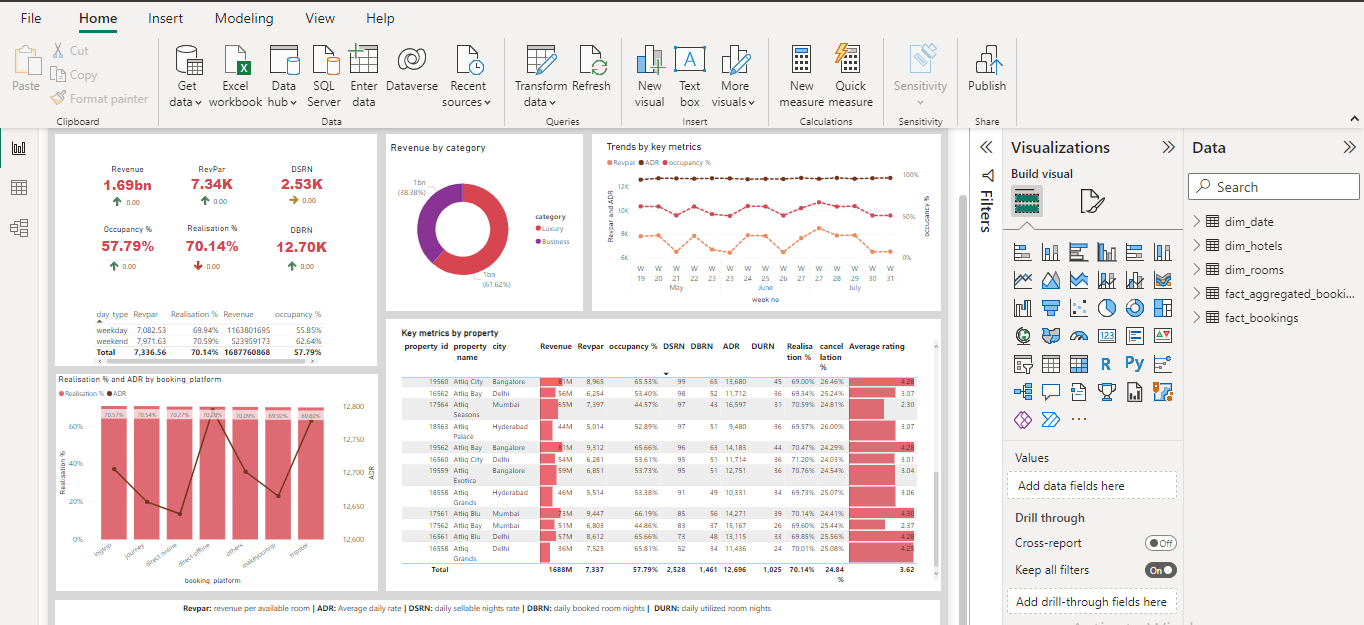

The dashboard page shown, as its layout file describes it:
{"tool":"powerbi","page":{"name":"Page 1","canvas":[1800,1150],"ordinal":0},"visuals":[{"type":"shape","box":[676,516,1110,544],"z":0},{"type":"shape","box":[1088,146,698,354],"z":1000},{"type":"shape","box":[16,626,644,434],"z":2000},{"type":"shape","box":[14,146,644,464],"z":3000},{"type":"shape","box":[676,40,1110,92],"z":4000},{"type":"shape","box":[16,40,644,92],"z":5000},{"type":"tableEx","title":"Key metrics by property","fields":{"Values":["dim_hotels.property_id","dim_hotels.property_name","dim_hotels.city","fact_bookings.Revenue","fact_bookings.Revpar","dim_date.occupancy %","fact_bookings.DSRN","fact_bookings.DBRN","fact_bookings.ADR","fact_bookings.DURN","fact_bookings.Realisation %","fact_bookings.cancellation %"]},"box":[702,532,1084,520],"z":6000},{"type":"slicer","title":"          Filter by month","fields":{"Values":["dim_date.mmm yy"]},"box":[680,50,268,72],"z":7000},{"type":"slicer","title":"Filter by week no","fields":{"Values":["dim_date.week no"]},"box":[948,50,820,72],"z":8000},{"type":"tableEx","fields":{"Values":["fact_bookings.Revenue WoW change %"]},"box":[851.9,357.7,96.2,78.8],"z":9000},{"type":"lineChart","title":"Trends by key metrics","fields":{"Y":["fact_bookings.Revpar","fact_bookings.ADR"],"Category":["dim_date.mmm yy.Variation.Date Hierarchy.Month","dim_date.week no"],"Y2":["dim_date.occupancy %"]},"box":[1112,160,656,330],"z":10000},{"type":"lineStackedColumnComboChart","fields":{"Category":["fact_bookings.booking_platform"],"Y2":["fact_bookings.ADR"],"Y":["fact_bookings.Realisation %"]},"box":[16,626,642,426],"z":11000},{"type":"actionButton","box":[0,0,100,40],"z":12000},{"type":"slicer","title":"Filter by City","fields":{"Values":["dim_hotels.city"]},"box":[72,50,194,72],"z":13000},{"type":"slicer","title":"Filter by Room class","fields":{"Values":["dim_rooms.room_class"]},"box":[304,50,184,56],"z":14000},{"type":"shape","box":[676,146,394,354],"z":15000},{"type":"donutChart","fields":{"Y":["fact_bookings.Revenue"],"Category":["dim_hotels.category"]},"box":[680,160,378.3,330],"z":16000},{"type":"tableEx","fields":{"Values":["fact_bookings.DSRN WoW change %"]},"box":[472.5,234.8,82.7,75],"z":17000},{"type":"tableEx","fields":{"Values":["fact_bookings.Occupancy WoW change %"]},"box":[112.9,365.6,94.2,98.1],"z":18000},{"type":"tableEx","fields":{"Values":["fact_bookings.Realisation WoW change %"]},"box":[280.2,365.6,96.2,69.2],"z":19000},{"type":"tableEx","fields":{"Values":["fact_bookings.Revpar WoW change %"]},"box":[293.7,238.7,82.7,84.6],"z":20000},{"type":"card","title":"RevPar","fields":{"Values":["fact_bookings.Revpar"]},"box":[230.2,207,196.2,63.5],"z":21000},{"type":"card","title":"DSRN","fields":{"Values":["fact_bookings.DSRN"]},"box":[459.1,207,96.2,63.5],"z":22000},{"type":"card","title":"Occupancy %","fields":{"Values":["dim_date.occupancy %"]},"box":[84.1,326.5,151.9,71.2],"z":23000},{"type":"card","title":"Realisation %","fields":{"Values":["fact_bookings.Realisation %"]},"box":[253.3,324.6,150,75],"z":24000},{"type":"tableEx","fields":{"Values":["fact_bookings.Revenue WoW change %"]},"box":[118.7,240.6,82.7,65.4],"z":25000},{"type":"card","title":"     Revenue","fields":{"Values":["fact_bookings.Revenue"]},"box":[62.9,206,194.2,65.4],"z":26000},{"type":"tableEx","fields":{"Values":["fact_bookings.DR WoW change %"]},"box":[468.3,361.7,86.7,98.3],"z":27000},{"type":"card","title":"DBRN","fields":{"Values":["fact_bookings.ADR"]},"box":[432.2,327.2,150,71.2],"z":28000},{"type":"tableEx","fields":{"Values":["dim_date.day_type","fact_bookings.Revpar","fact_bookings.Realisation %","fact_bookings.Revenue","dim_date.occupancy %"]},"box":[86.7,490,470,120],"z":29000},{"type":"shape","box":[13.3,1078.3,1770,66.7],"z":30000},{"type":"textbox","box":[255,1078,1290,42],"z":30001}]}

Visuals, with their boxes on the page's 1800x1150 design canvas (x1, y1, x2, y2). These are canvas units, not pixel positions in the 1364x625 screenshot, which may show the page scaled, cropped or inside an application window:
shape: [676, 516, 1786, 1060]
shape: [1088, 146, 1786, 500]
shape: [16, 626, 660, 1060]
shape: [14, 146, 658, 610]
shape: [676, 40, 1786, 132]
shape: [16, 40, 660, 132]
"Key metrics by property" tableEx: [702, 532, 1786, 1052]
"          Filter by month" slicer: [680, 50, 948, 122]
"Filter by week no" slicer: [948, 50, 1768, 122]
tableEx - fact_bookings.Revenue WoW change %: [852, 358, 948, 436]
"Trends by key metrics" lineChart: [1112, 160, 1768, 490]
lineStackedColumnComboChart - fact_bookings.booking_platform x fact_bookings.ADR: [16, 626, 658, 1052]
actionButton: [0, 0, 100, 40]
"Filter by City" slicer: [72, 50, 266, 122]
"Filter by Room class" slicer: [304, 50, 488, 106]
shape: [676, 146, 1070, 500]
donutChart - fact_bookings.Revenue x dim_hotels.category: [680, 160, 1058, 490]
tableEx - fact_bookings.DSRN WoW change %: [472, 235, 555, 310]
tableEx - fact_bookings.Occupancy WoW change %: [113, 366, 207, 464]
tableEx - fact_bookings.Realisation WoW change %: [280, 366, 376, 435]
tableEx - fact_bookings.Revpar WoW change %: [294, 239, 376, 323]
"RevPar" card: [230, 207, 426, 270]
"DSRN" card: [459, 207, 555, 270]
"Occupancy %" card: [84, 326, 236, 398]
"Realisation %" card: [253, 325, 403, 400]
tableEx - fact_bookings.Revenue WoW change %: [119, 241, 201, 306]
"     Revenue" card: [63, 206, 257, 271]
tableEx - fact_bookings.DR WoW change %: [468, 362, 555, 460]
"DBRN" card: [432, 327, 582, 398]
tableEx - dim_date.day_type x fact_bookings.Revpar: [87, 490, 557, 610]
shape: [13, 1078, 1783, 1145]
textbox: [255, 1078, 1545, 1120]
